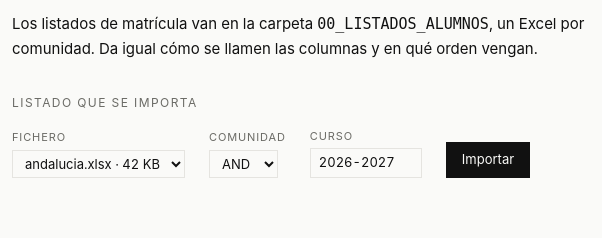
Test: Alumnos › un fallo se enseña con su mensaje
This screenshot has width=602, height=238.
Click the button "Importar": (488, 160) [446,142,530,178]
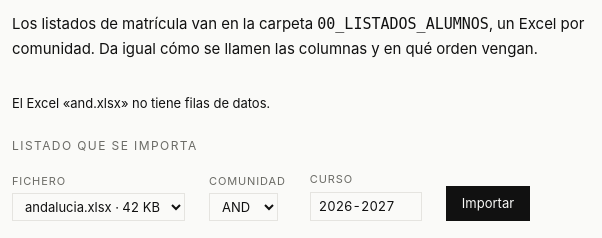
Check: the text "El Excel «and.xlsx» no tiene filas de datos." is shown, box [12,94,270,110]
